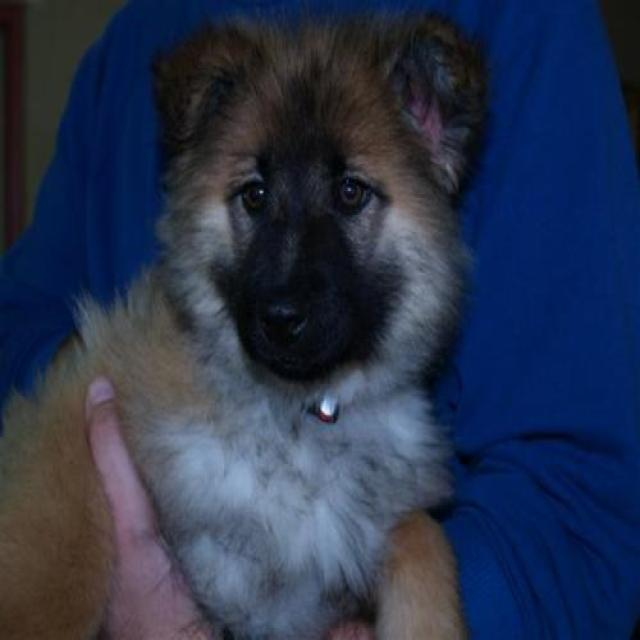Dogs: (0, 5, 490, 638)
